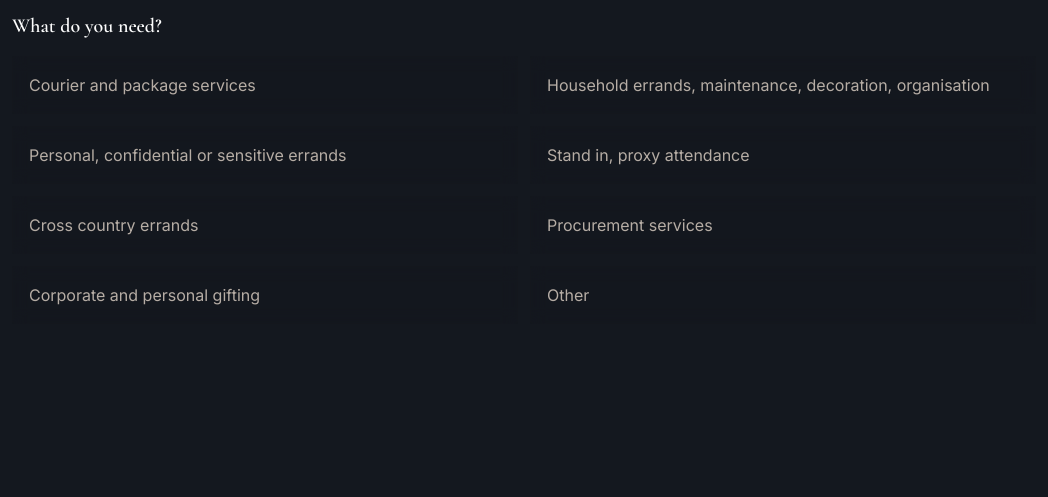
Test case: ServiceOptionSelector › shows custom description input when 'Other' is selected
This screenshot has width=1048, height=497.
What coordinates should you click on to do the following:
click the button "Other"
I would click on:
 (568, 295)
Its box is [530,266,1036,324].
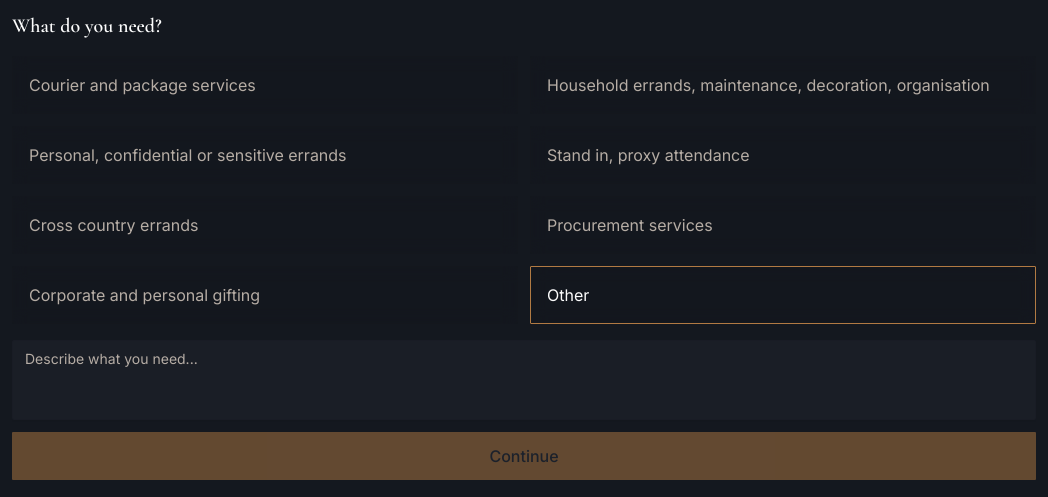
Expected: the text box with placeholder "Describe what you need..." is shown, [12,340,1036,420]
